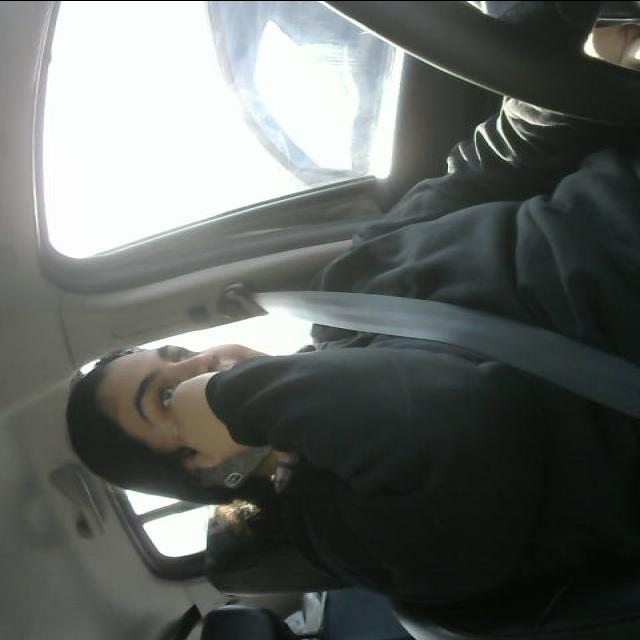mobile use: (166, 392, 300, 494)
